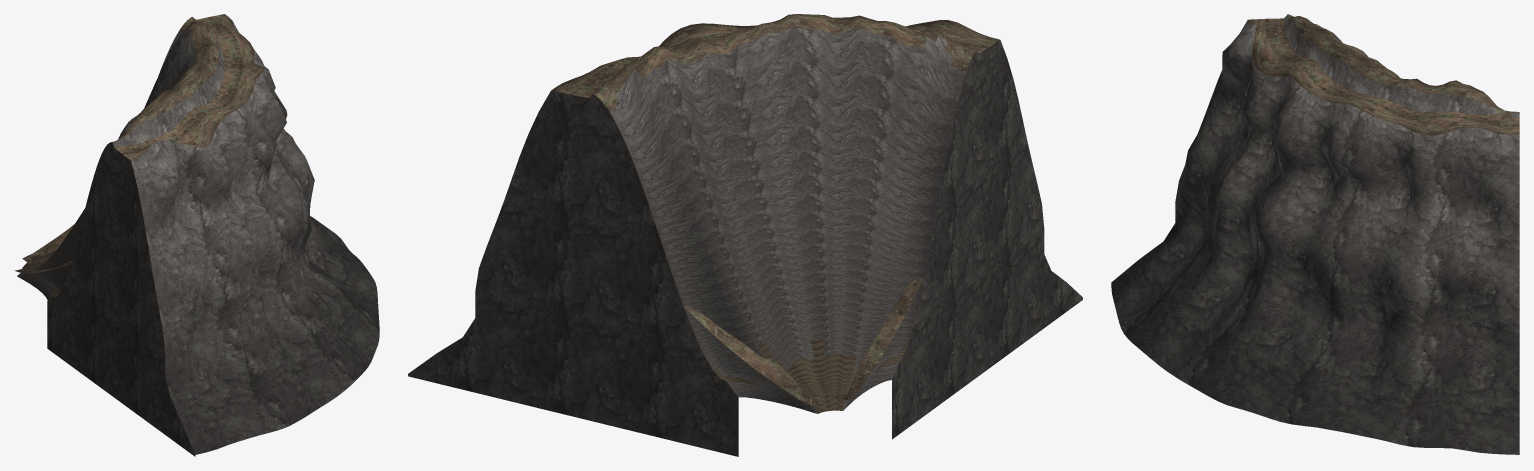
The model's file is seacliff_outer_h5_v5_autumn.glb.
3 views of the same model, side by side, from view 1: azimuth 30°, elevation 25°; view 2: azimuth 150°, elevation 25°; view 3: azimuth 270°, elevation 25° (orthographic). The views are drawn at different scales.
Parts seen in each view (by area): view 1: seacliff_outer_h5; view 2: seacliff_outer_h5; view 3: seacliff_outer_h5.
Boxes of the visible parts, box(x1,y1,x2,y2) form: seacliff_outer_h5: box(14, 14, 379, 456); seacliff_outer_h5: box(408, 14, 1082, 456); seacliff_outer_h5: box(1111, 14, 1519, 454).
Size of the model in its own units: 9.01 by 7.21 by 9.01.
Materials: 2 (2 with a texture image).
